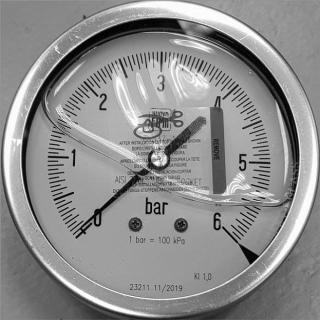gauge: (0, 0, 320, 320), (71, 205, 111, 243), (206, 210, 238, 247), (149, 147, 171, 171), (77, 222, 87, 232)
